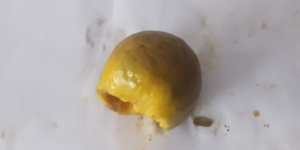BAD: (98, 29, 201, 131)
